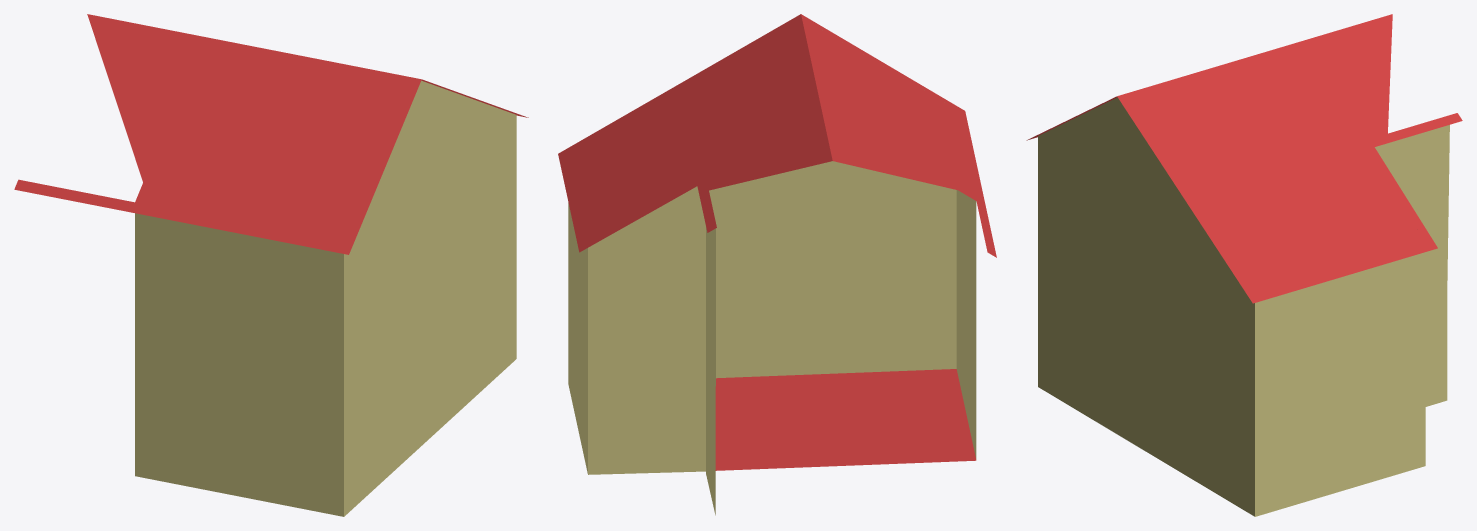
The picture shows the model from 3 angles, left to right: view 1: azimuth 30°, elevation 25°; view 2: azimuth 150°, elevation 25°; view 3: azimuth 270°, elevation 25°; orthographic projection. The views are drawn at different scales.
Size of the model in its own units: 14.11 by 11.94 by 10.38.
